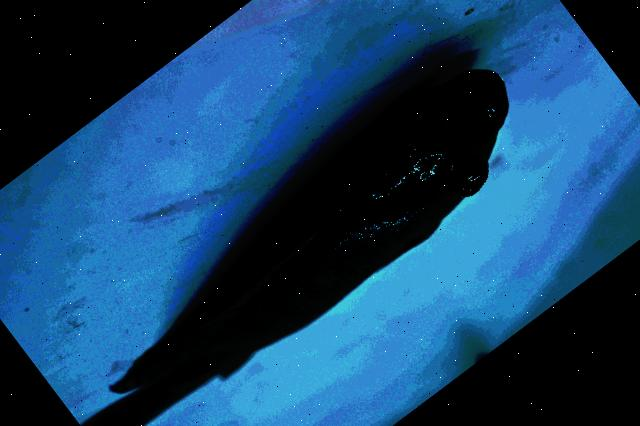Streptococcus: (81, 69, 507, 426), (82, 69, 506, 426)
